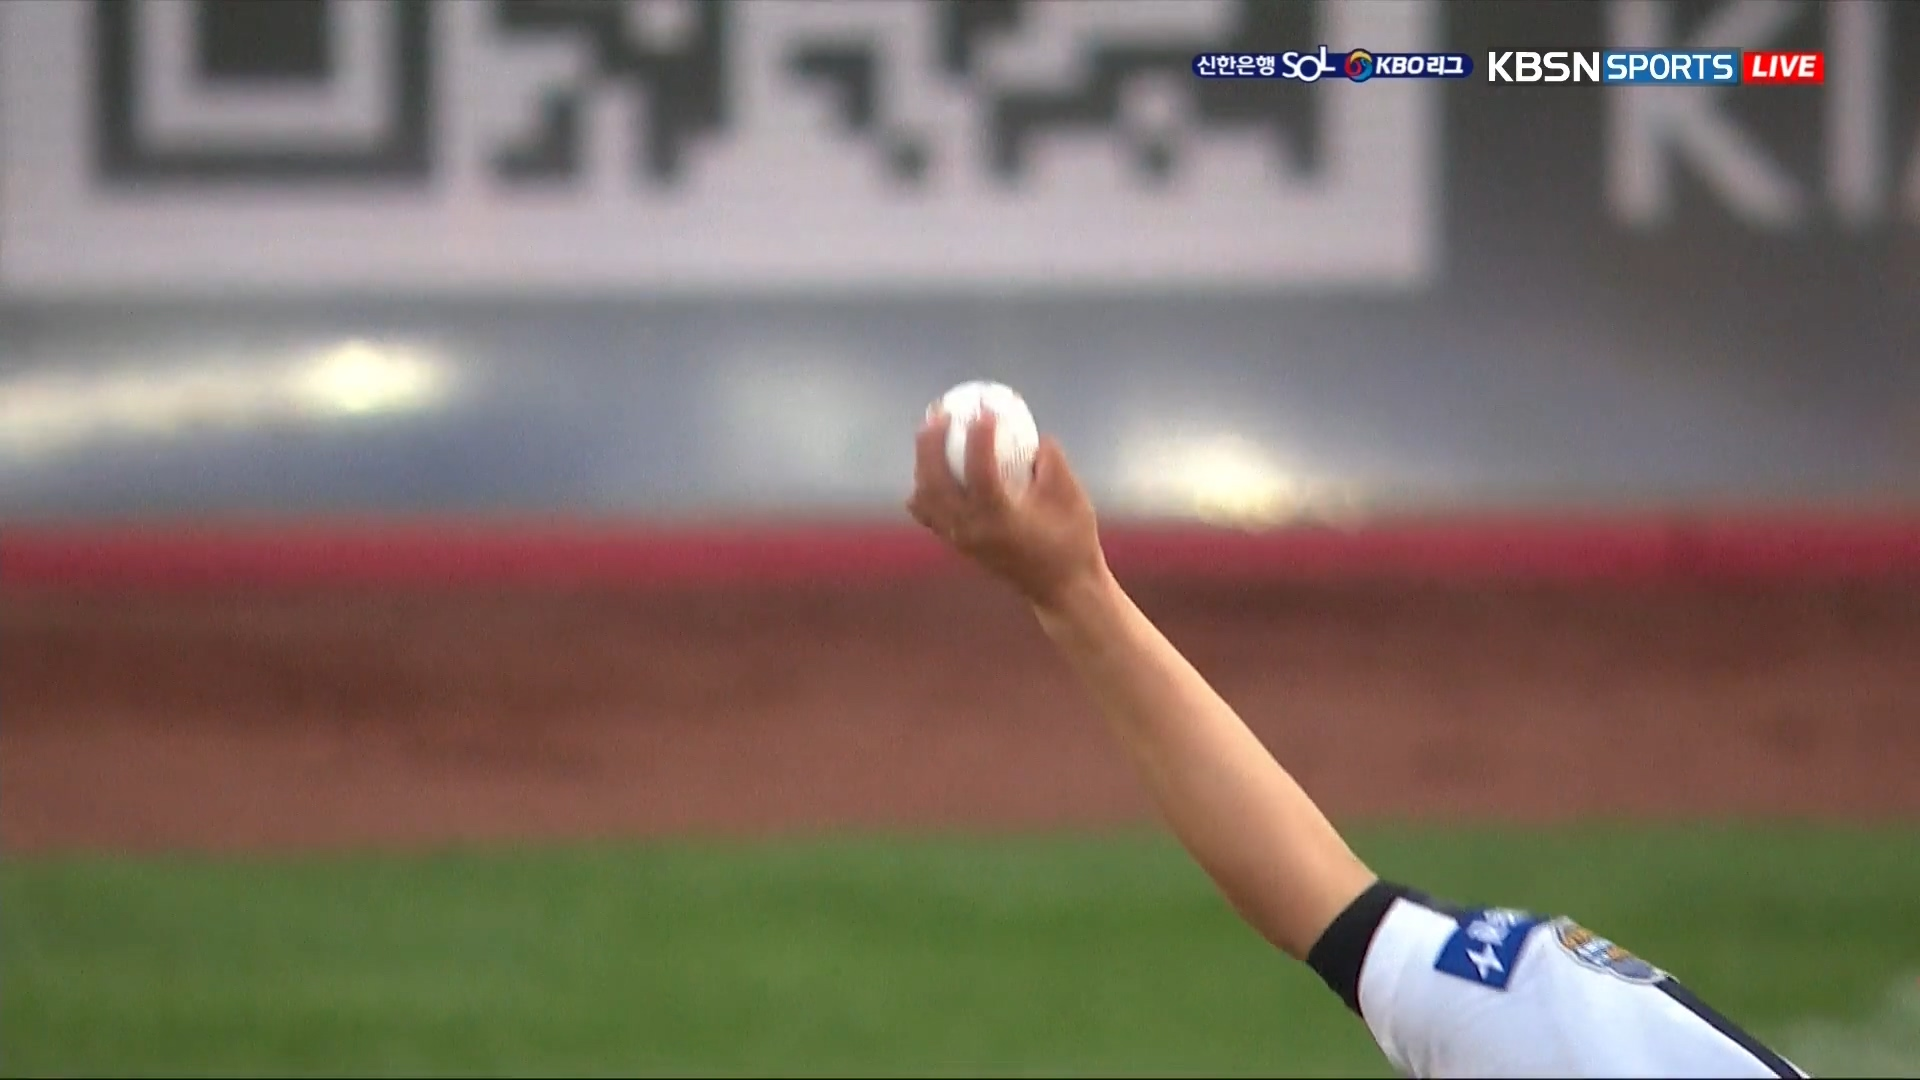zoomin_hand: (893, 361, 1361, 982)
